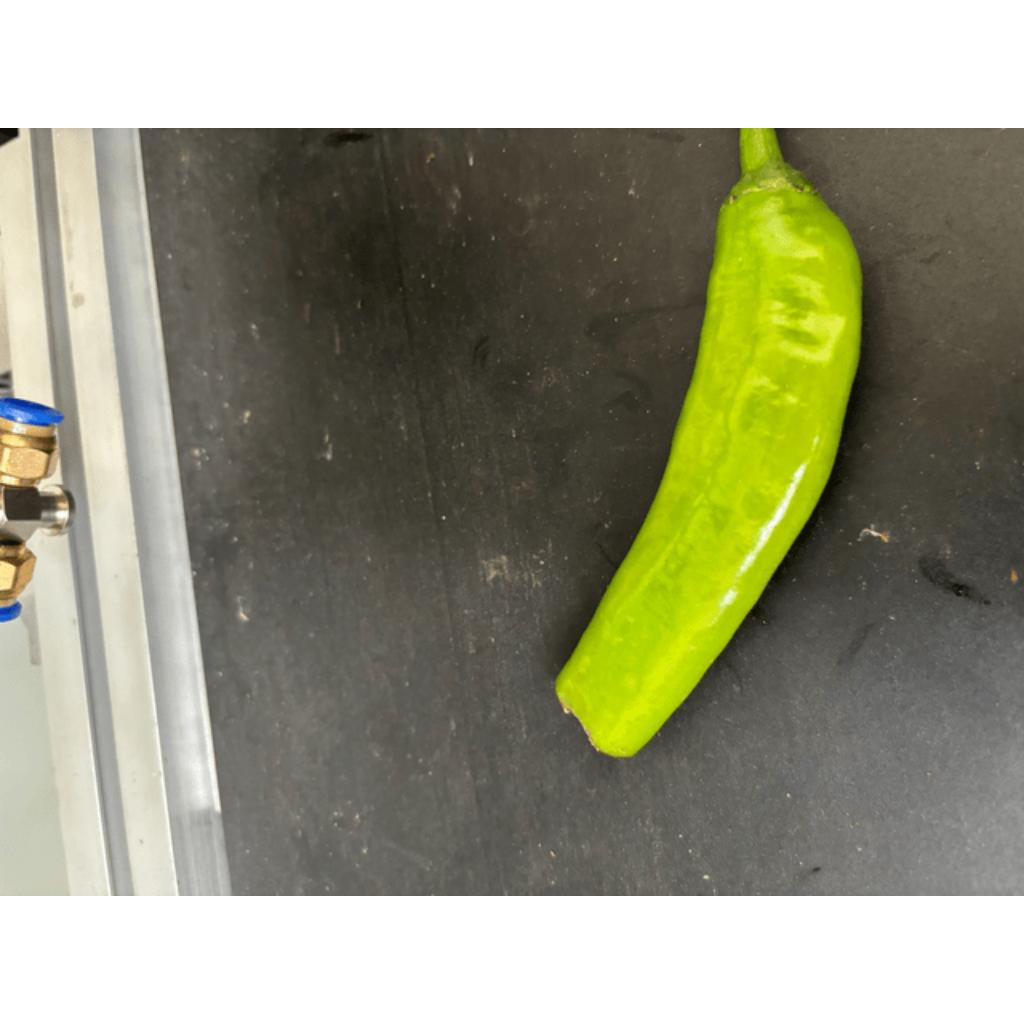chili: (553, 153, 866, 763)
